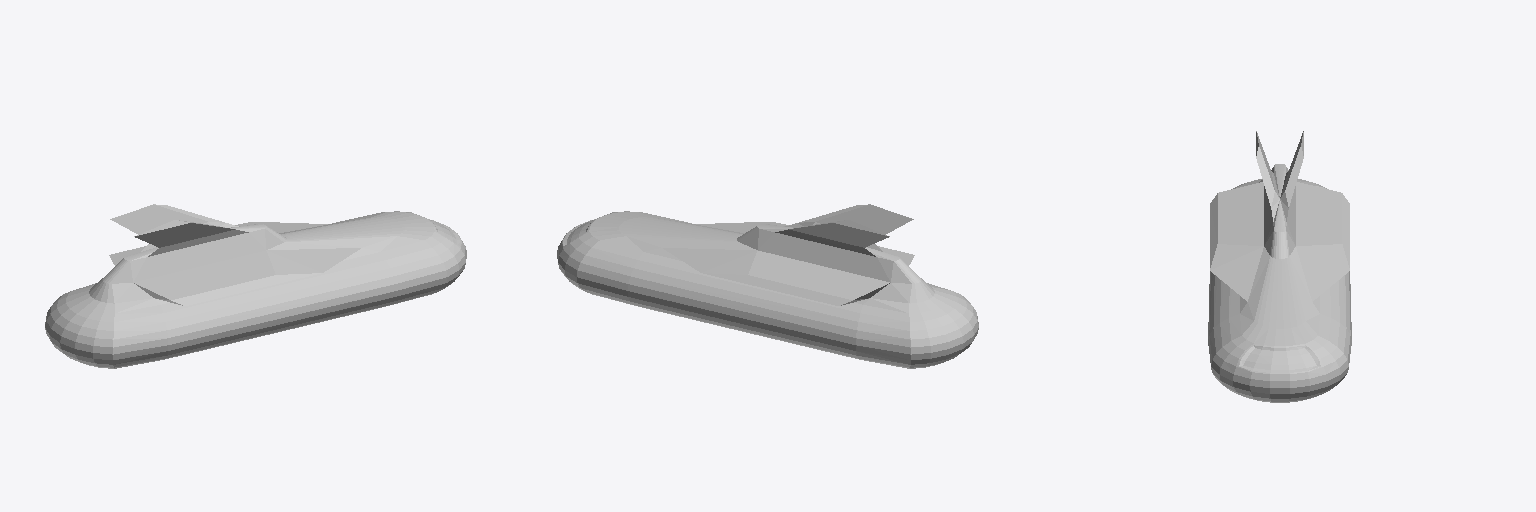
File: Ship.obj
The picture shows the model from 3 angles: view 1: azimuth 30°, elevation 25°; view 2: azimuth 150°, elevation 25°; view 3: azimuth 270°, elevation 25°; orthographic projection.
Visible parts, largest first — view 1: Sphere; view 2: Sphere; view 3: Sphere.
Boxes of the visible parts, box(x1,y1,x2,y2) form: Sphere: box(45, 204, 466, 368); Sphere: box(557, 204, 978, 368); Sphere: box(1208, 131, 1351, 402).
Size of the model in its own units: 6.35 by 2 by 1.97.